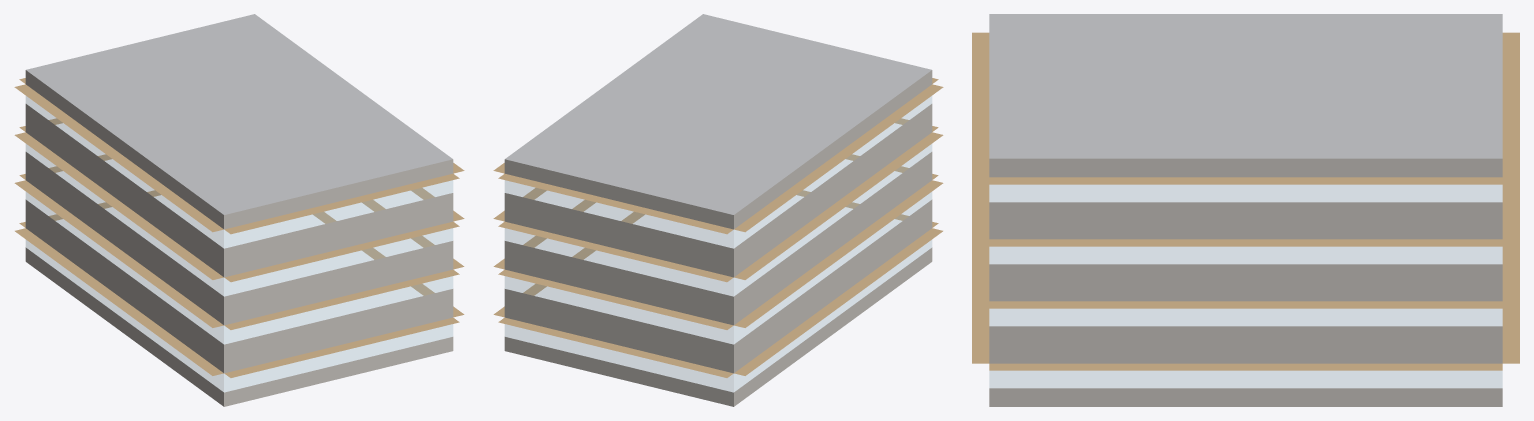
3 renders of one model, left to right at view 1: azimuth 30°, elevation 25°; view 2: azimuth 150°, elevation 25°; view 3: azimuth 270°, elevation 25°, orthographic. The views are drawn at different scales.
Parts seen in each view (by area): view 1: Dinding Bata, Atap Beton, Kaca Jendela, Peneduh Overhang; view 2: Dinding Bata, Atap Beton, Kaca Jendela, Peneduh Overhang; view 3: Dinding Bata, Atap Beton, Kaca Jendela, Peneduh Overhang.
Part boxes in pixels (<box>): Dinding Bata: <box>25,70,453,406</box>; Atap Beton: <box>26,14,452,214</box>; Kaca Jendela: <box>26,96,452,392</box>; Peneduh Overhang: <box>14,78,464,377</box>; Dinding Bata: <box>504,70,932,406</box>; Atap Beton: <box>505,14,931,214</box>; Kaca Jendela: <box>505,96,931,392</box>; Peneduh Overhang: <box>493,78,943,377</box>; Dinding Bata: <box>989,158,1502,406</box>; Atap Beton: <box>989,14,1502,158</box>; Kaca Jendela: <box>989,185,1502,387</box>; Peneduh Overhang: <box>972,32,1519,370</box>.
Bounding box in the file's own units: 22 × 16 × 32.
